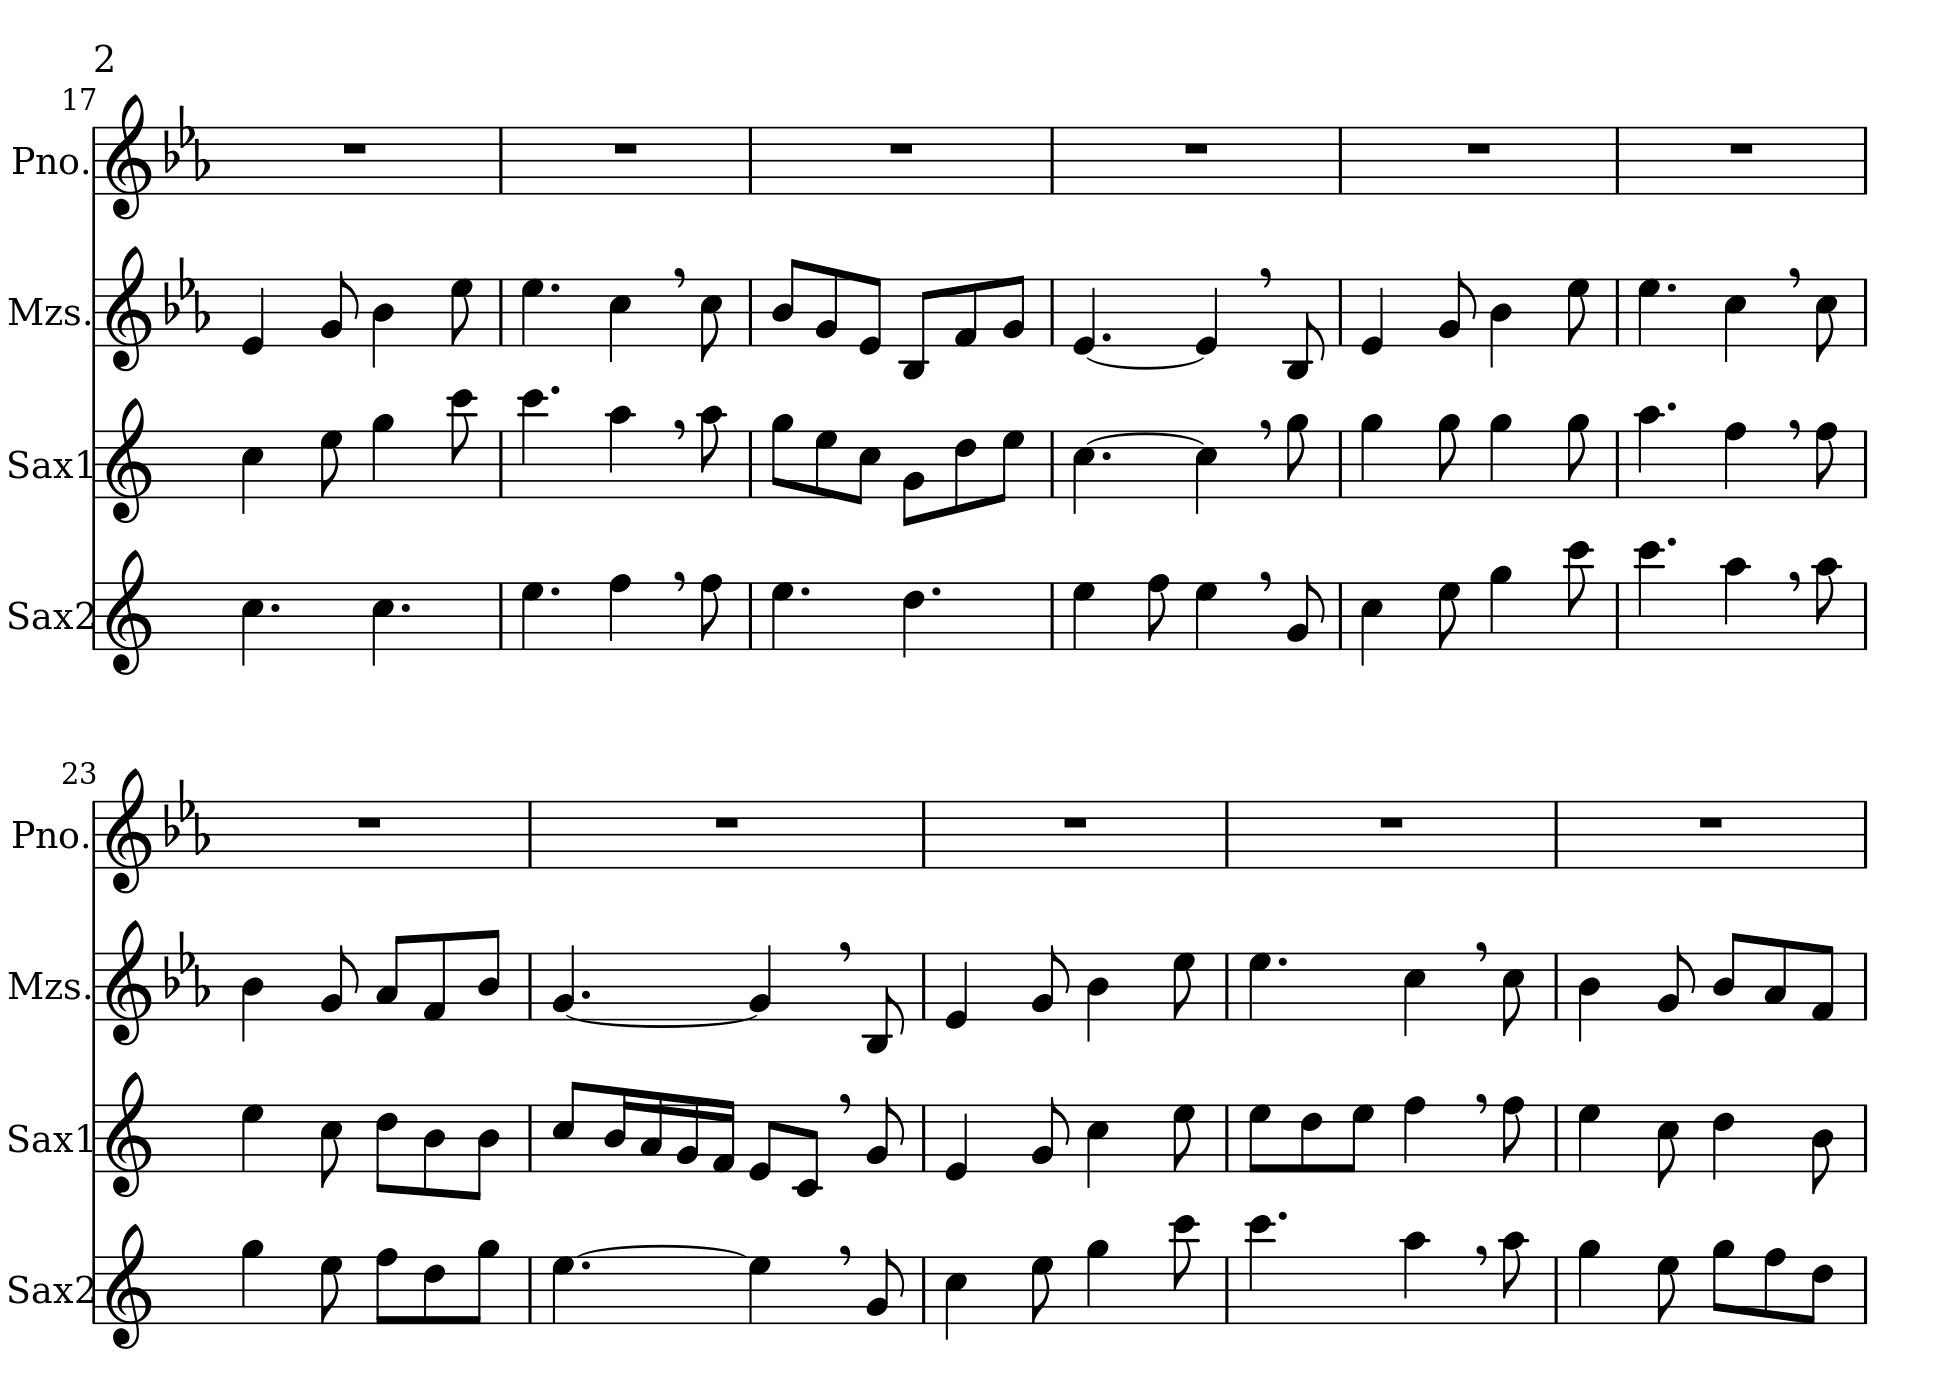1: (61, 85, 76, 114)
16_1: (709, 1096, 736, 1174)
16_2: (675, 1093, 702, 1174)
16_3: (637, 1089, 664, 1173)
16_4: (601, 1084, 633, 1174)
2: (91, 42, 115, 72), (60, 759, 79, 786)
3: (79, 759, 97, 786)
4_0: (1071, 276, 1098, 357), (1194, 276, 1221, 357), (943, 949, 970, 1030), (1359, 277, 1386, 357), (943, 1102, 970, 1182), (240, 276, 265, 358)
4_10: (1399, 1228, 1431, 1326), (1720, 555, 1750, 652), (604, 403, 634, 499), (1635, 403, 1663, 499)
4_12: (1633, 538, 1666, 652), (516, 388, 549, 501), (1245, 1213, 1278, 1326)
4_2: (550, 943, 576, 1021), (748, 942, 772, 1021)
4_4: (238, 949, 265, 1042), (1488, 276, 1513, 369), (1576, 951, 1602, 1042), (1086, 949, 1110, 1042), (370, 277, 394, 367)
4_5: (1071, 427, 1098, 517), (238, 427, 265, 516), (238, 579, 265, 667), (369, 579, 396, 667), (1401, 951, 1428, 1039), (606, 277, 633, 364), (1722, 277, 1749, 364), (1194, 427, 1219, 517), (942, 1254, 967, 1342), (1359, 580, 1384, 667), (1084, 1102, 1110, 1189)
4_6: (1710, 1102, 1735, 1183), (901, 580, 925, 658)
4_7: (517, 580, 546, 651), (1192, 580, 1221, 649), (238, 1102, 265, 1174), (1575, 1102, 1602, 1174), (1635, 277, 1662, 348), (745, 1254, 772, 1324), (1071, 580, 1098, 649), (519, 277, 544, 348), (769, 580, 795, 649), (1248, 951, 1272, 1021), (550, 1254, 574, 1324)
4_8: (606, 571, 633, 652), (1401, 1093, 1428, 1174), (1722, 420, 1749, 499)
4_9: (1575, 1237, 1602, 1324), (1488, 562, 1513, 652), (369, 411, 394, 499), (1488, 411, 1513, 499), (1359, 412, 1384, 499), (238, 1237, 264, 1324), (1084, 1237, 1110, 1324)
7: (79, 85, 96, 112)
8_-2: (790, 1102, 823, 1198)
8_-3: (1284, 277, 1326, 379), (864, 951, 906, 1053), (898, 277, 933, 379)
8_0: (747, 1102, 778, 1182), (856, 273, 885, 357)
8_1: (421, 930, 448, 1021), (1809, 940, 1836, 1023), (952, 276, 979, 348)
8_10: (697, 405, 727, 501), (1812, 556, 1842, 652), (1500, 1230, 1528, 1326)
8_12: (447, 387, 478, 499), (1170, 1213, 1201, 1326), (1564, 538, 1594, 652)
8_2: (1287, 571, 1326, 649), (319, 943, 358, 1021), (865, 1095, 904, 1173), (865, 1246, 904, 1324), (319, 270, 358, 346), (1437, 270, 1476, 346), (1657, 943, 1695, 1021), (1032, 943, 1069, 1020), (1032, 1095, 1069, 1171), (898, 427, 927, 526), (814, 265, 838, 348), (1002, 273, 1026, 348)
8_3: (373, 933, 406, 1021), (1762, 937, 1789, 1021)
8_4: (466, 1102, 501, 1201), (769, 256, 802, 348), (1713, 931, 1744, 1021), (475, 927, 502, 1021), (421, 1102, 447, 1198), (1809, 1102, 1834, 1195)
8_5: (549, 1078, 583, 1174), (852, 427, 882, 507), (697, 276, 723, 364), (1813, 276, 1839, 363), (1500, 951, 1525, 1038), (1654, 1102, 1680, 1189), (318, 1102, 343, 1188)
8_6: (373, 1101, 400, 1194), (1803, 1255, 1834, 1326), (952, 427, 976, 514), (421, 1254, 445, 1326), (1299, 1102, 1323, 1173)
8_7: (993, 427, 1026, 504), (1342, 1102, 1374, 1173), (811, 427, 838, 499), (318, 427, 343, 499), (1171, 951, 1197, 1021), (1171, 1102, 1197, 1173), (318, 1254, 343, 1324), (1029, 1254, 1054, 1324), (1248, 1102, 1272, 1173), (1656, 1254, 1680, 1324), (448, 277, 472, 346), (1566, 277, 1590, 346), (1437, 580, 1461, 649)
8_8: (1500, 1093, 1527, 1174), (697, 571, 724, 651), (1144, 571, 1171, 651), (1762, 1246, 1788, 1327), (373, 1246, 399, 1326), (1813, 421, 1839, 499)
8_9: (465, 1237, 499, 1326), (1284, 412, 1309, 499), (1435, 412, 1461, 499), (1710, 1237, 1735, 1324), (769, 412, 793, 499), (1566, 412, 1590, 499)
E_F: (163, 775, 210, 853), (163, 255, 208, 333), (163, 928, 208, 1006), (163, 103, 208, 180)
Gclef: (103, 396, 154, 526), (103, 244, 154, 373), (103, 547, 154, 676), (103, 1069, 154, 1198), (103, 1221, 154, 1350), (103, 766, 153, 897), (103, 918, 153, 1048), (103, 93, 153, 222)
Pno: (9, 142, 81, 180), (10, 817, 82, 853)
Rests1: (1726, 139, 1758, 157), (354, 813, 385, 831), (711, 813, 742, 831), (339, 139, 370, 156), (1695, 813, 1726, 829), (610, 139, 640, 156), (886, 139, 916, 156), (1182, 139, 1212, 156), (1464, 139, 1494, 156), (1060, 813, 1090, 829), (1377, 813, 1407, 829)
Rests8: (1260, 570, 1275, 594)
Sax: (3, 444, 76, 489), (3, 1117, 76, 1161), (3, 595, 76, 637), (4, 1267, 75, 1309)
Single_barline: (1548, 1104, 1566, 1170), (1548, 1255, 1566, 1321), (1332, 583, 1350, 648), (1857, 126, 1873, 193), (1857, 277, 1873, 345), (1857, 1255, 1873, 1323), (1609, 127, 1626, 193), (1857, 430, 1873, 496), (1219, 801, 1236, 867), (915, 1255, 931, 1321), (1332, 279, 1348, 343), (1609, 430, 1626, 495), (1045, 583, 1062, 648), (1548, 952, 1564, 1017), (915, 1104, 931, 1168), (1219, 1105, 1236, 1170), (522, 1257, 538, 1321), (1609, 583, 1626, 646), (88, 580, 103, 649), (1857, 580, 1872, 649), (1858, 799, 1873, 868), (1858, 1102, 1873, 1171), (1045, 277, 1060, 345), (88, 430, 103, 498), (88, 1104, 103, 1171), (523, 1104, 538, 1171), (88, 1255, 103, 1323), (742, 127, 757, 193), (742, 277, 757, 343), (742, 430, 757, 496), (1045, 430, 1060, 496), (916, 801, 931, 867), (523, 952, 538, 1018), (1221, 952, 1236, 1018), (493, 127, 508, 192), (1333, 127, 1348, 192), (493, 279, 508, 343), (1611, 279, 1626, 343), (493, 430, 508, 495), (1333, 430, 1348, 495), (742, 583, 757, 648), (1548, 801, 1563, 865), (916, 952, 931, 1017), (1219, 1257, 1234, 1321), (493, 583, 508, 646), (87, 799, 100, 868), (1858, 952, 1872, 1021), (1045, 127, 1059, 193), (523, 801, 537, 867), (88, 277, 100, 346), (88, 952, 100, 1021), (88, 126, 100, 193)
Slur: (1086, 430, 1209, 445), (1086, 355, 1206, 369)
dot: (1275, 952, 1290, 969), (577, 985, 592, 1002), (547, 280, 562, 295), (547, 382, 562, 397), (1665, 399, 1680, 414), (1665, 534, 1680, 549), (928, 583, 943, 598), (577, 1258, 592, 1273), (1276, 1207, 1290, 1224), (1665, 280, 1678, 295), (1099, 328, 1113, 343), (1099, 448, 1113, 463), (547, 583, 562, 597), (798, 583, 811, 598), (267, 600, 282, 613), (397, 600, 412, 613)
